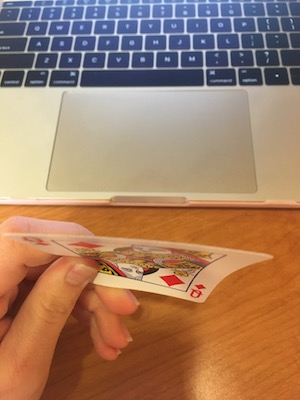QueenOfDiamonds: (2, 218, 281, 318)
